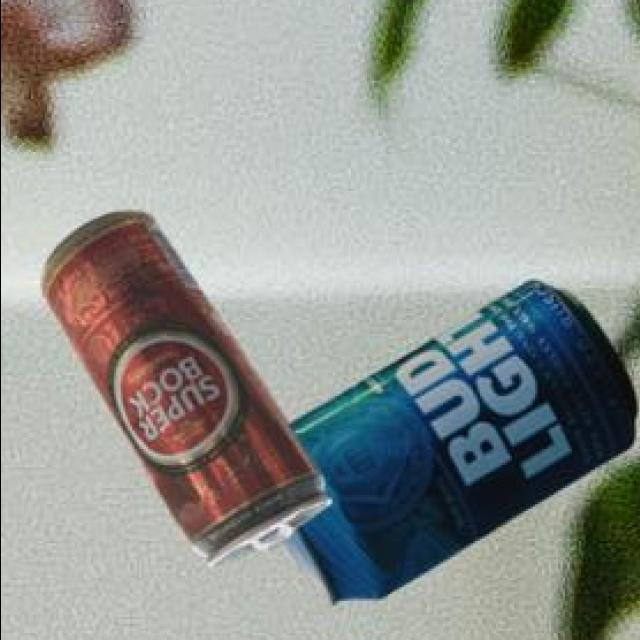logam: (280, 284, 632, 609), (38, 215, 326, 570)
